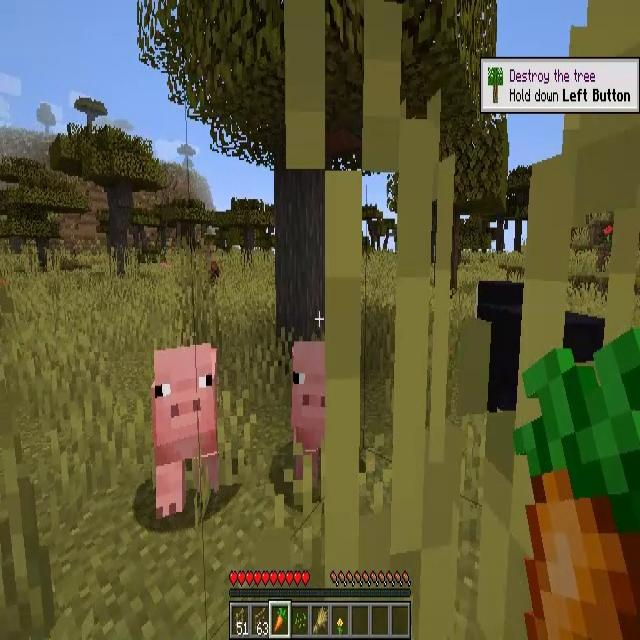pig: (154, 350, 221, 514), (294, 342, 328, 492)
